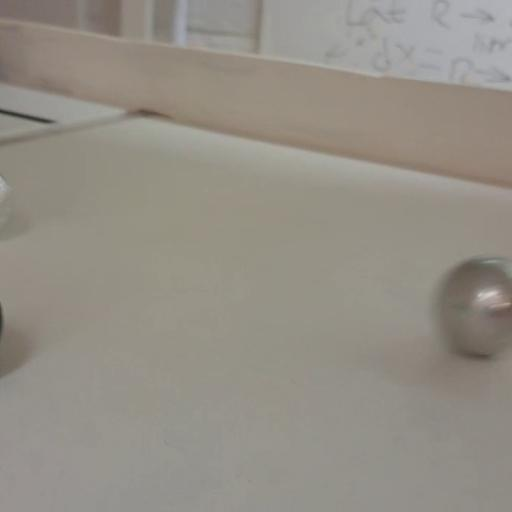alive: (433, 253, 512, 362), (0, 173, 13, 225)
dead: (0, 296, 6, 352)
